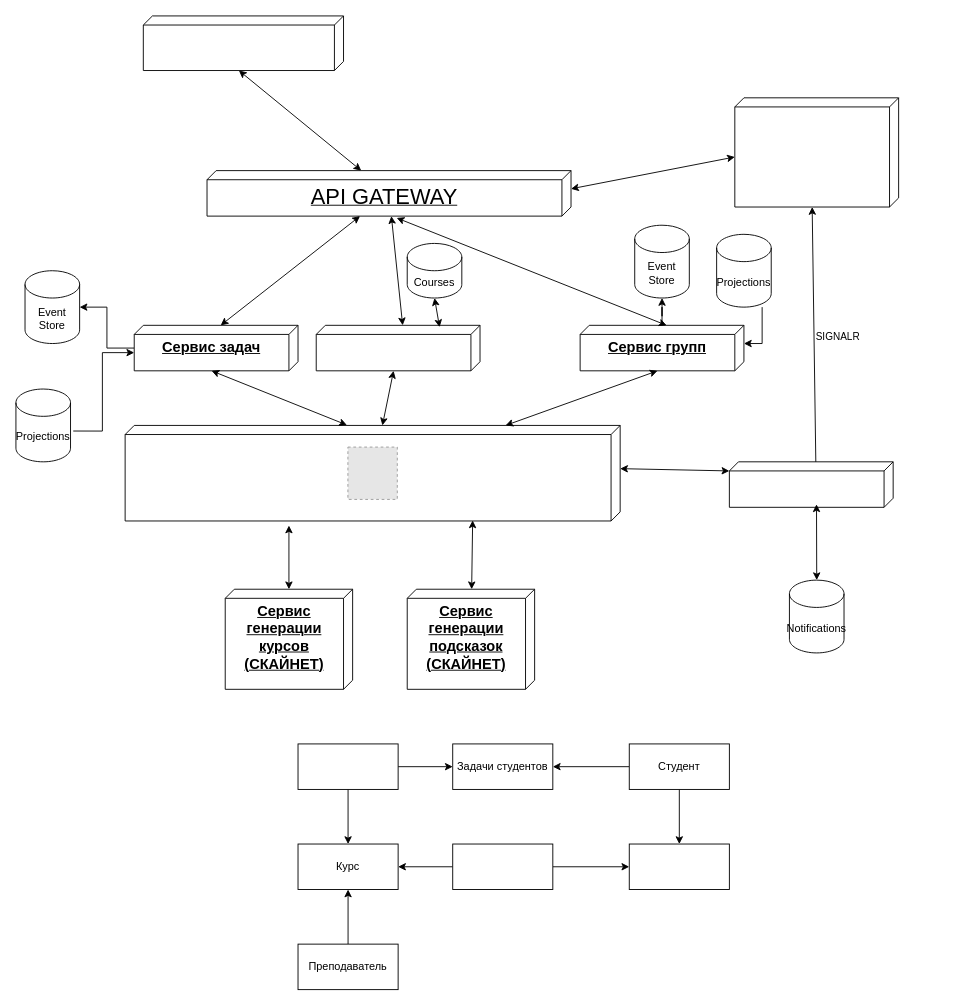
Some shapes in this 953 by 1006 pixel diagram are drawn without their labels. Grey dashed boxes stand in for pictures. Each missing label, with the centre of its shape:
"FRONTEND" belongs at (816,152).
"Группа" belongs at (502,866).
"Задачи" belongs at (347,766).
"Сервис OAuth" belongs at (243,43).
"Сервис курсов" belongs at (397,347).
"Сервис уведомлений" belongs at (810,484).
"Студенты в группе" belongs at (678,866).
